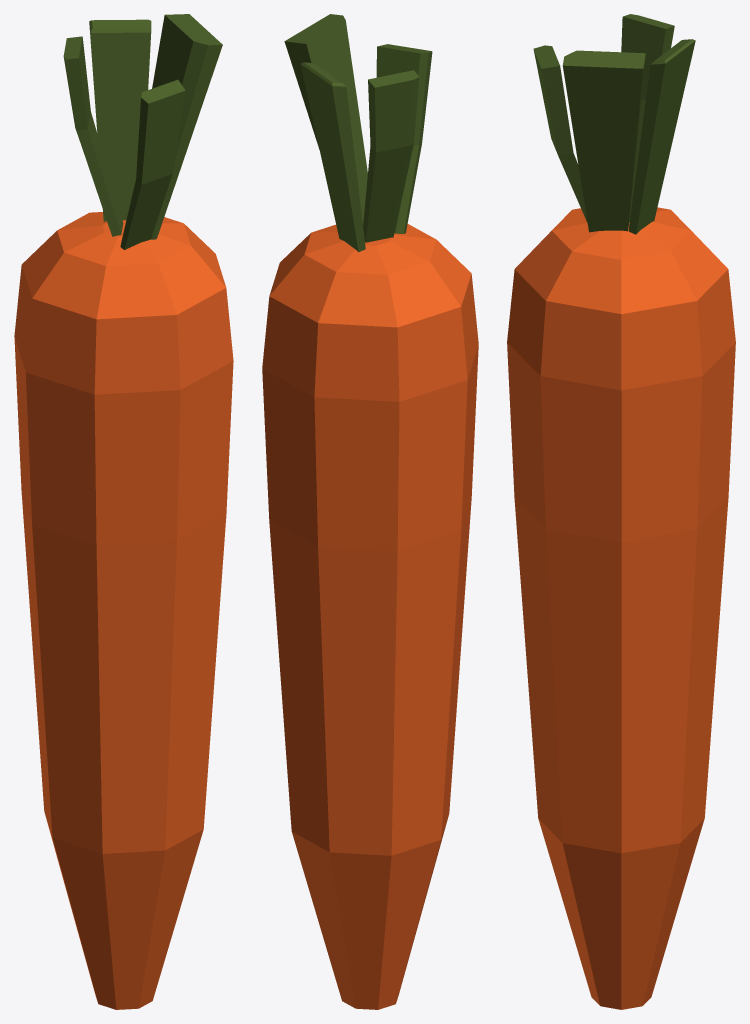
Rendered from Carrot_1.fbx.
The picture shows the model from 3 angles, left to right: view 1: azimuth 30°, elevation 25°; view 2: azimuth 150°, elevation 25°; view 3: azimuth 270°, elevation 25°; orthographic projection. The views are drawn at different scales.
Parts seen in each view (by area): view 1: Carrot_1; view 2: Carrot_1; view 3: Carrot_1.
Boxes of the visible parts, left/top/right/bottom form: Carrot_1: left=14, top=14, right=233, bottom=1009; Carrot_1: left=262, top=14, right=478, bottom=1009; Carrot_1: left=507, top=14, right=735, bottom=1009.
Size of the model in its own units: 11.54 by 53.94 by 11.54.
